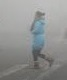person: (30, 11, 53, 70)
